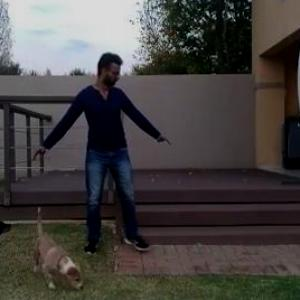land: (35, 51, 172, 251)
